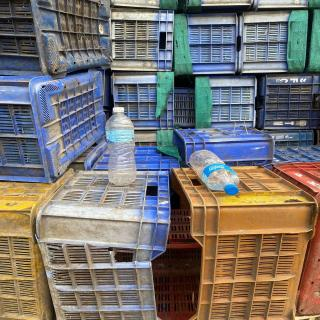Plastic-bottle: (103, 106, 141, 190), (187, 149, 244, 202)
